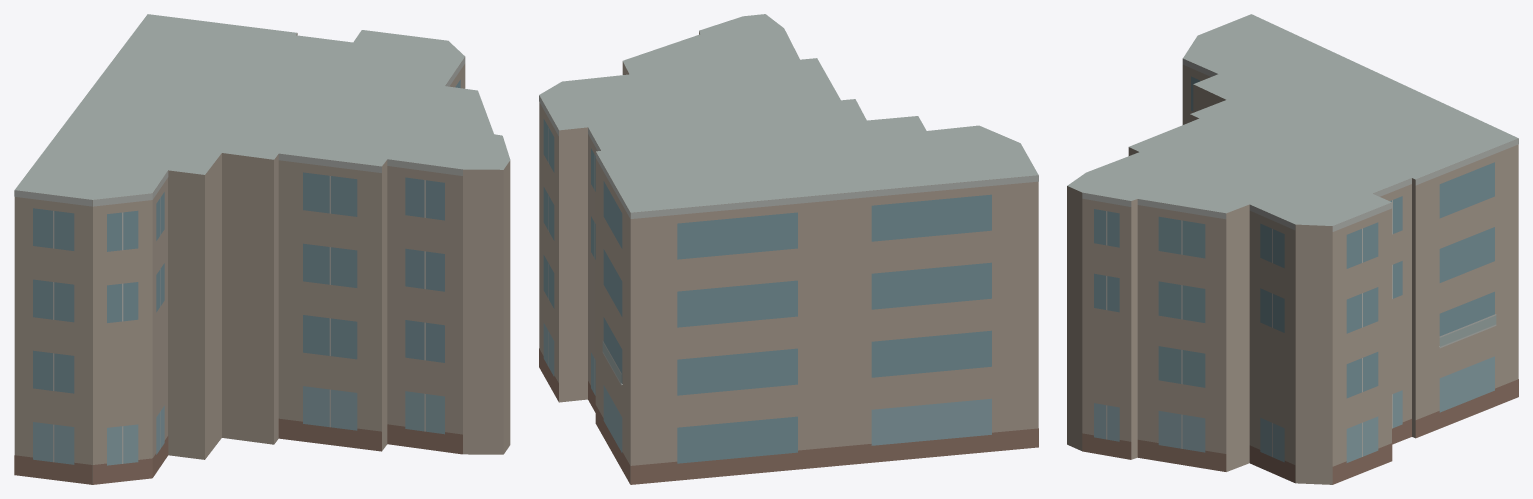
Rendered from survey-upis-32634267.glb.
3 views of the same model, side by side, from view 1: azimuth 30°, elevation 25°; view 2: azimuth 150°, elevation 25°; view 3: azimuth 270°, elevation 25° (orthographic). The views are drawn at different scales.
Parts seen in each view (by area): view 1: survey-upis-32634267.tmp; view 2: survey-upis-32634267.tmp; view 3: survey-upis-32634267.tmp.
Part boxes in pixels (<box>): survey-upis-32634267.tmp: <box>14,14,510,484</box>; survey-upis-32634267.tmp: <box>539,14,1038,484</box>; survey-upis-32634267.tmp: <box>1067,14,1518,484</box>.
Bounding box in the file's own units: 18.29 × 10.4 × 16.45.
